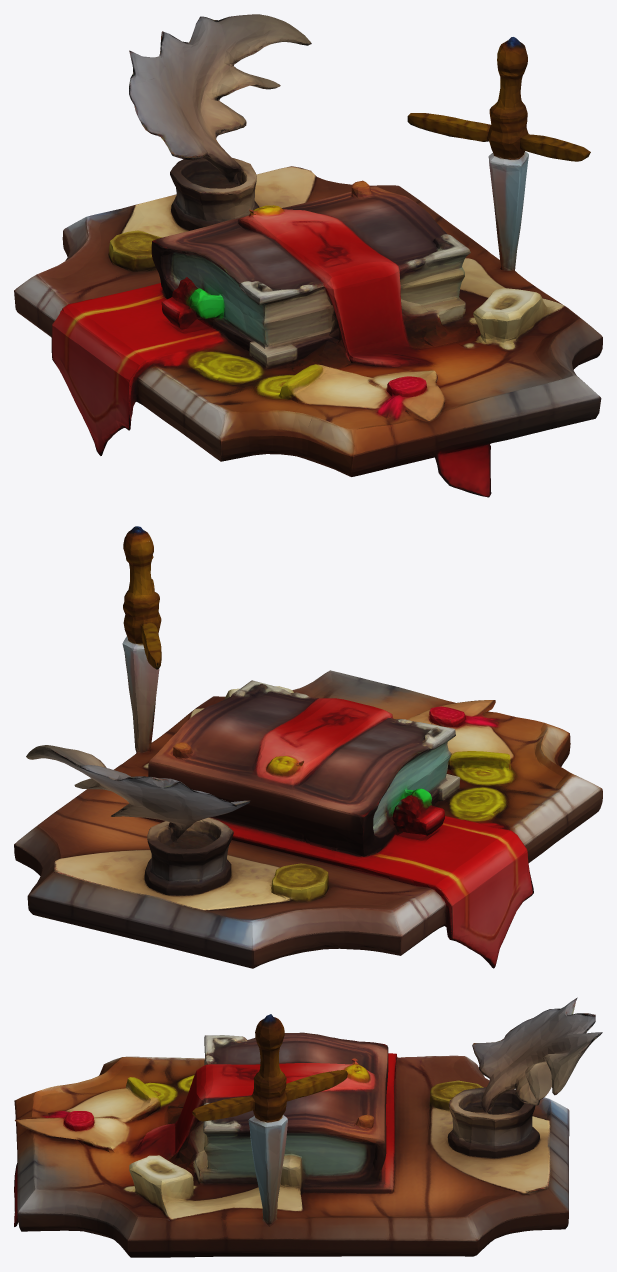
File: book1.glb
3 renders of one model, top to bottom at view 1: azimuth 30°, elevation 25°; view 2: azimuth 150°, elevation 25°; view 3: azimuth 270°, elevation 25°, orthographic. The views are drawn at different scales.
Parts seen in each view (by area): view 1: world; view 2: world; view 3: world.
Boxes of the visible parts, x1,y1,x2,y2 form: world: [14, 14, 602, 497]; world: [14, 526, 602, 968]; world: [14, 997, 602, 1257].
Bounding box in the file's own units: 0.758 × 0.5732 × 0.9918.
Materials: 1 (1 with a texture image).
